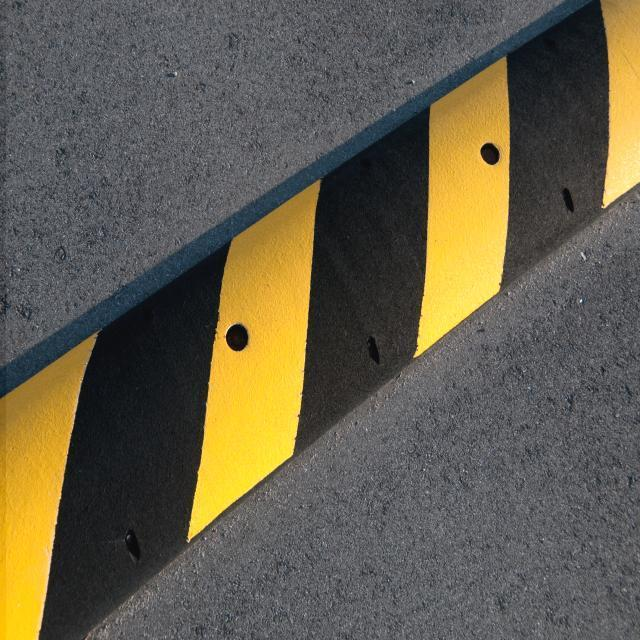Marked Bump: (55, 31, 568, 602)
